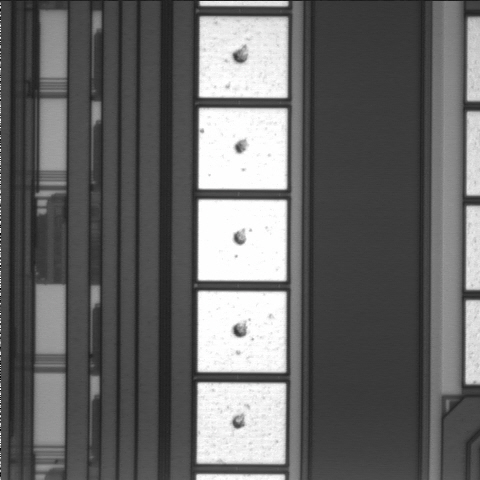pad: (198, 108, 287, 190), (198, 199, 287, 281), (199, 17, 288, 98), (197, 383, 286, 464), (198, 291, 286, 372)
